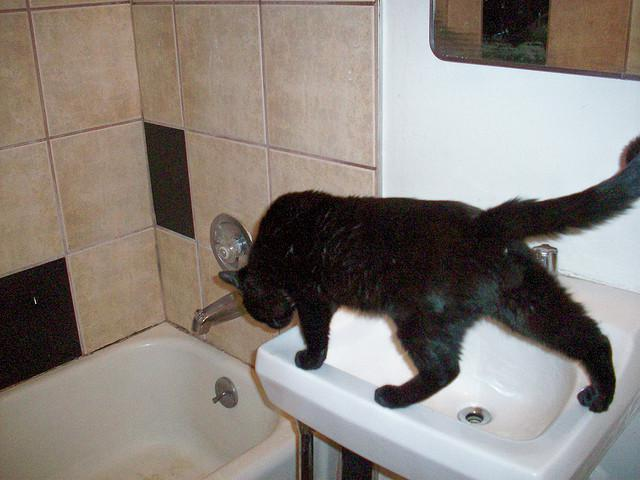Lavamanos: (264, 225, 639, 479)
